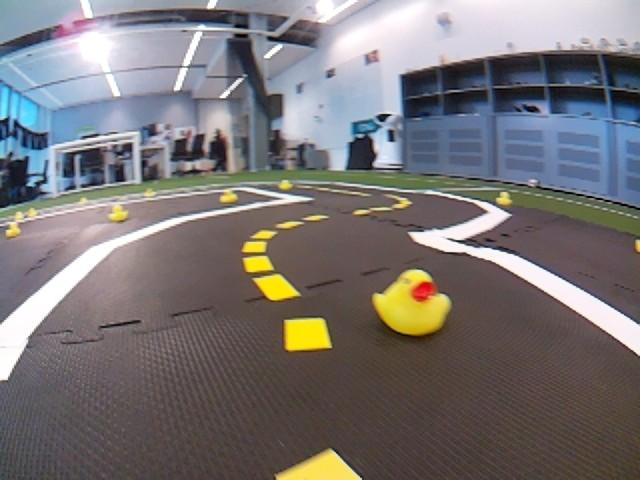Duckies: (374, 271, 450, 335), (108, 204, 129, 221), (495, 192, 511, 206), (220, 190, 237, 203), (5, 223, 20, 237), (278, 180, 292, 189), (144, 188, 155, 196), (27, 208, 35, 217), (15, 212, 23, 219), (78, 198, 87, 204)
